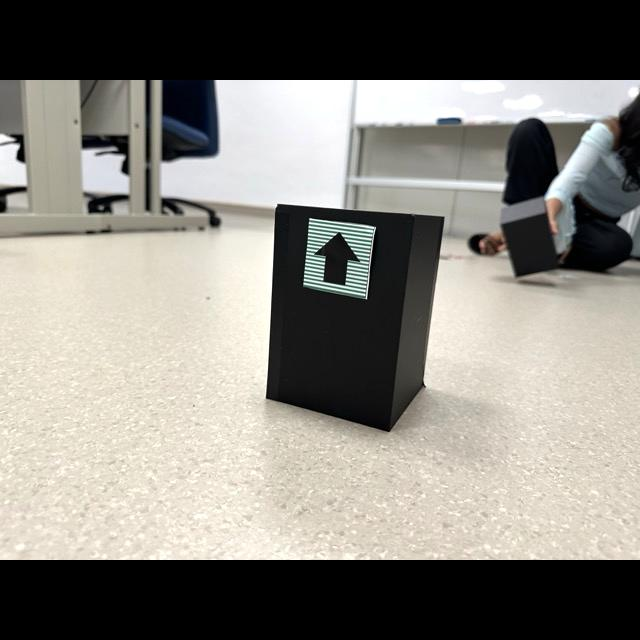UP: (314, 232, 361, 285)
